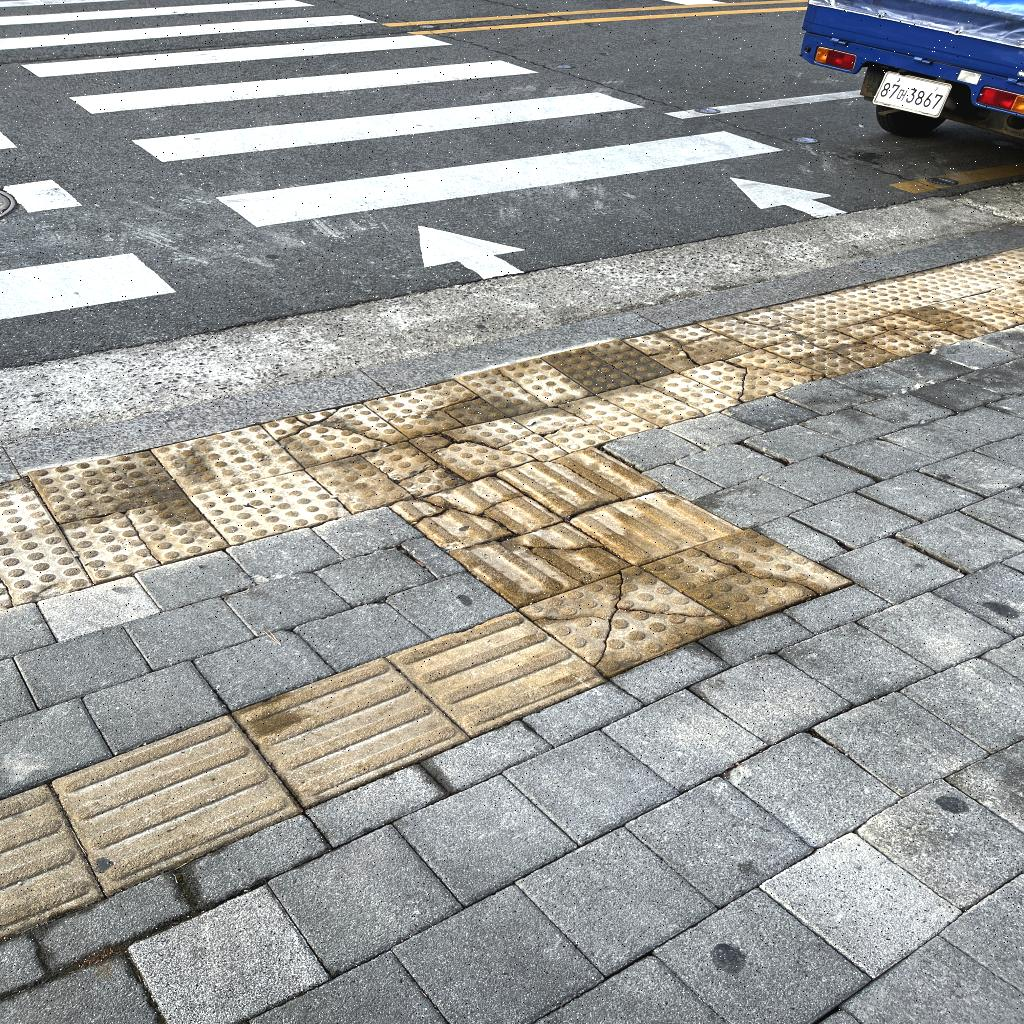Stop block broken: (523, 538, 729, 694), (643, 502, 850, 646), (61, 484, 225, 587), (410, 400, 565, 492), (306, 430, 459, 522), (262, 388, 408, 474), (683, 332, 824, 417), (514, 380, 656, 464), (763, 310, 900, 397), (598, 358, 739, 439), (364, 371, 505, 445), (836, 295, 966, 375), (624, 306, 756, 384), (459, 349, 590, 425), (543, 326, 670, 403), (699, 295, 828, 360), (901, 285, 1024, 350)
Stop block normal: (191, 461, 350, 551), (29, 444, 186, 526), (152, 417, 303, 502), (767, 278, 893, 345), (833, 265, 954, 327), (893, 254, 1012, 309)
Straight block broken: (451, 496, 630, 621), (388, 462, 561, 565), (497, 429, 662, 532)
Straight block normal: (52, 697, 298, 896), (233, 632, 466, 818), (389, 584, 603, 753), (569, 472, 740, 578)
